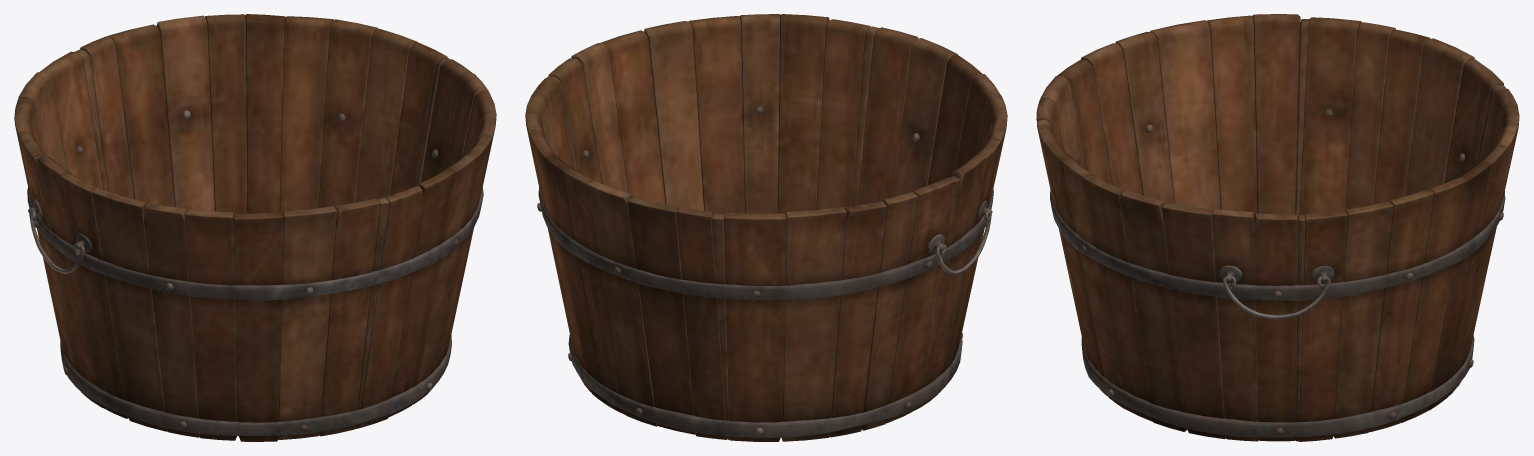
3 renders of one model, left to right at view 1: azimuth 30°, elevation 25°; view 2: azimuth 150°, elevation 25°; view 3: azimuth 270°, elevation 25°, orthographic.
Parts seen in each view (by area): view 1: wooden_bucket_02, wooden_bucket_02_handle_01; view 2: wooden_bucket_02, wooden_bucket_02_handle_01; view 3: wooden_bucket_02, wooden_bucket_02_handle_02.
Boxes of the visible parts, x1=… form: wooden_bucket_02: x1=14, y1=14, x2=496, y2=441; wooden_bucket_02_handle_01: x1=29, y1=210, x2=84, y2=273; wooden_bucket_02: x1=525, y1=14, x2=1007, y2=441; wooden_bucket_02_handle_01: x1=935, y1=211, x2=991, y2=274; wooden_bucket_02: x1=1036, y1=14, x2=1519, y2=441; wooden_bucket_02_handle_02: x1=1222, y1=275, x2=1330, y2=319.
Size of the model in its own units: 0.6153 by 0.3504 by 0.6163.
1 material, 1 textured.
